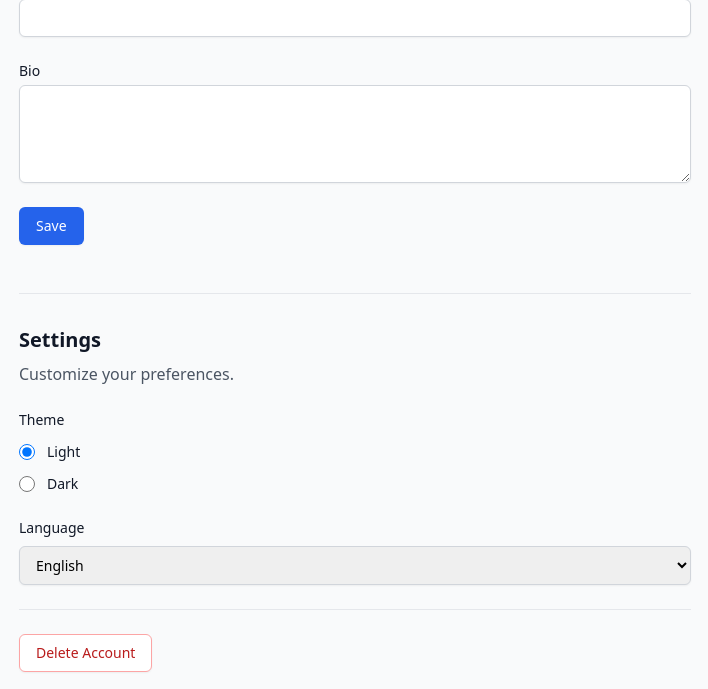
Profile Component › Theme Selector - Interaction › allows user to switch from light to dark theme
(page scrolled)
Check: the radio button labelled "Light" is checked, box [19,444,35,460]
Step 1. Click the radio button labelled "Dark" → (27, 484), box [19,476,35,492]
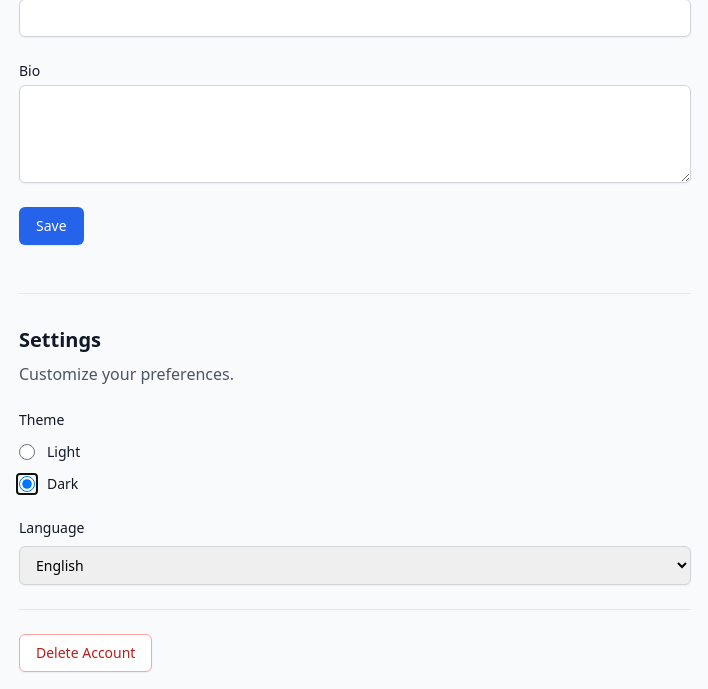
Check: the radio button labelled "Dark" is checked, box [19,476,35,492]
Check: the radio button labelled "Light" is not checked, box [19,444,35,460]
